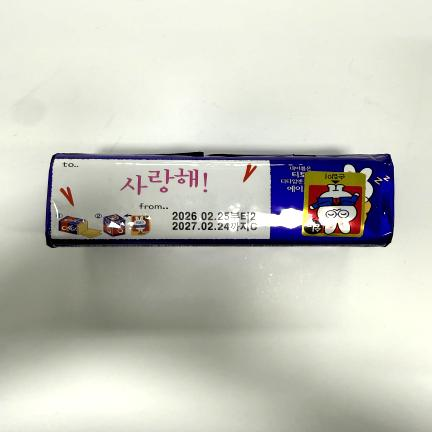cracker_ace: (46, 153, 394, 247)
